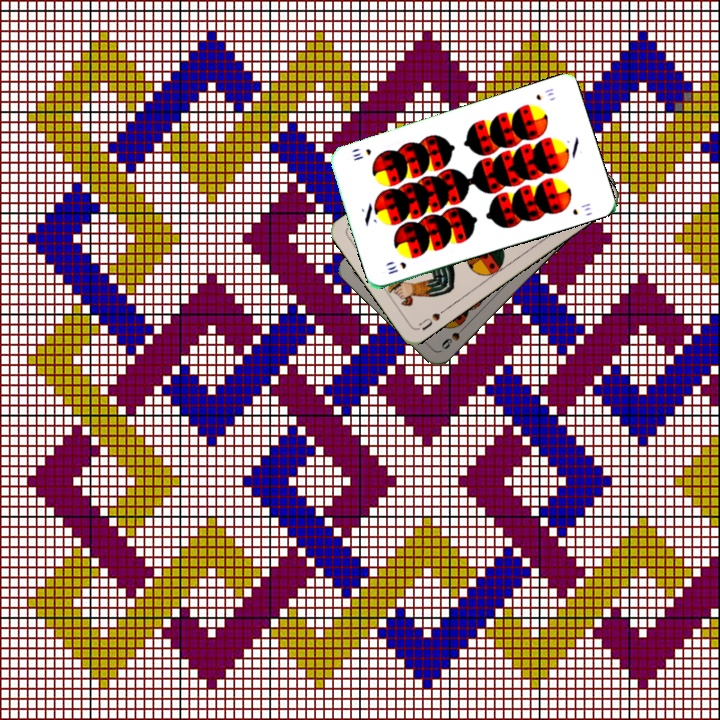S10: (383, 258, 409, 277), (532, 84, 557, 103)
S9: (437, 320, 469, 352)
SU: (414, 304, 450, 333)
